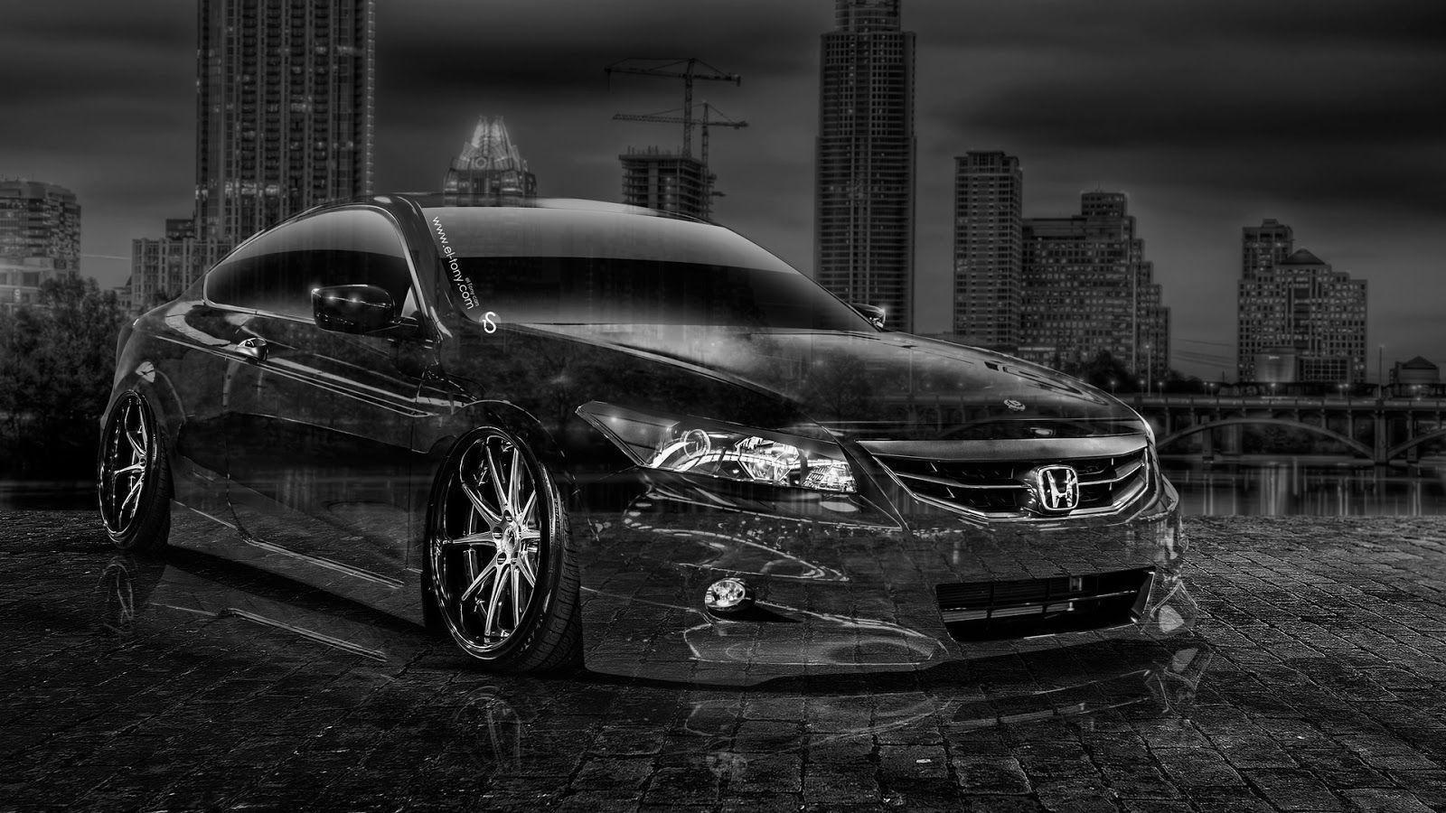Car hood: (494, 312, 1155, 446)
Driver-s door - -F-R-: (216, 199, 406, 597)
Fender - -F-R-: (408, 310, 643, 610)
Fender - -R-R-: (111, 317, 211, 526)
Front bumper: (559, 465, 1210, 701)
Headlight - -L-: (1103, 392, 1167, 455)
Headlight - -R-: (570, 390, 865, 500)
Rear bumper: (95, 368, 135, 478)
Rear light - -R-: (101, 307, 144, 377)
Side bumper - -R-: (158, 493, 436, 637)
Side mirror - -L-: (836, 292, 892, 338)
Side mirror - -R-: (307, 274, 418, 343)
